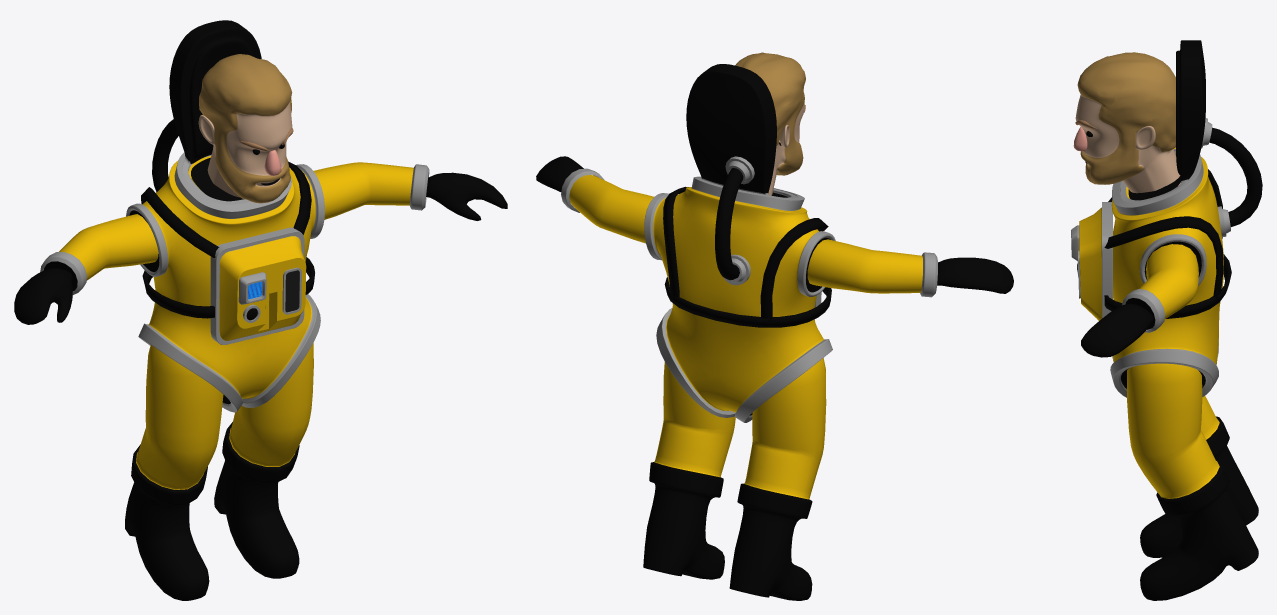
The model's file is joshtronaut_v3.glb.
The picture shows the model from 3 angles, left to right: view 1: azimuth 30°, elevation 25°; view 2: azimuth 150°, elevation 25°; view 3: azimuth 270°, elevation 25°; orthographic projection. The views are drawn at different scales.
Visible parts, largest first — view 1: Torso_and_Helmet, Leg_R, Leg_L.001, Head_Josh, Front_Pack, Arm_R, Arm_L, Straps, Tube, Filter; view 2: Torso_and_Helmet, Leg_R, Leg_L.001, Arm_R, Arm_L, Straps, Head_Josh, Tube; view 3: Leg_L.001, Torso_and_Helmet, Head_Josh, Arm_L, Leg_R, Front_Pack, Straps, Tube, Ears.
Boxes of the visible parts, x1,y1,x2,y2 form: Torso_and_Helmet: [126, 20, 324, 412]; Leg_R: [125, 345, 223, 600]; Leg_L.001: [214, 342, 313, 578]; Head_Josh: [199, 54, 292, 203]; Front_Pack: [210, 227, 306, 344]; Arm_R: [14, 214, 158, 324]; Arm_L: [313, 162, 507, 220]; Straps: [141, 161, 314, 318]; Tube: [152, 119, 178, 192]; Filter: [282, 267, 301, 314]; Torso_and_Helmet: [644, 64, 835, 422]; Leg_R: [729, 358, 826, 600]; Leg_L.001: [643, 362, 735, 579]; Arm_R: [807, 239, 1013, 297]; Arm_L: [536, 156, 654, 243]; Straps: [663, 186, 831, 327]; Head_Josh: [735, 52, 805, 195]; Tube: [715, 156, 754, 285]; Leg_L.001: [1127, 363, 1258, 600]; Torso_and_Helmet: [1110, 40, 1223, 397]; Head_Josh: [1075, 52, 1180, 193]; Arm_L: [1081, 244, 1198, 357]; Leg_R: [1140, 396, 1258, 557]; Front_Pack: [1071, 202, 1112, 320]; Straps: [1104, 169, 1231, 318]; Tube: [1201, 118, 1262, 237]; Ears: [1135, 126, 1155, 149].
Size of the model in its own units: 2.38 by 2.68 by 0.9691.
12 materials, 1 textured.
